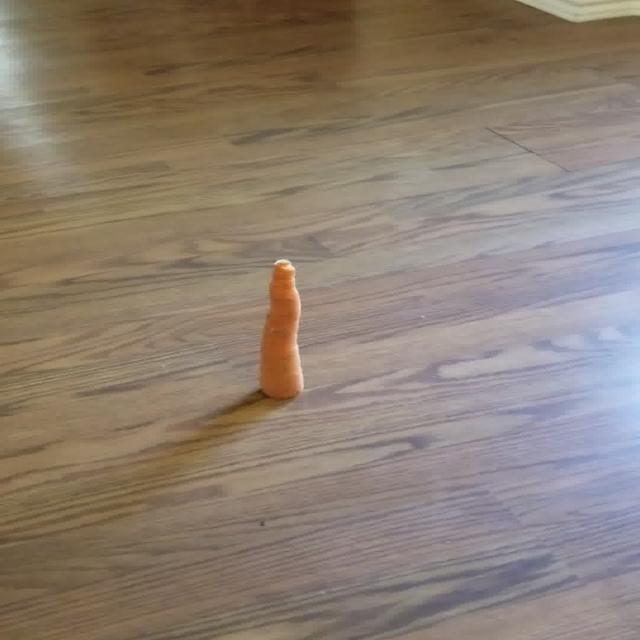carrot: (260, 260, 304, 399)
